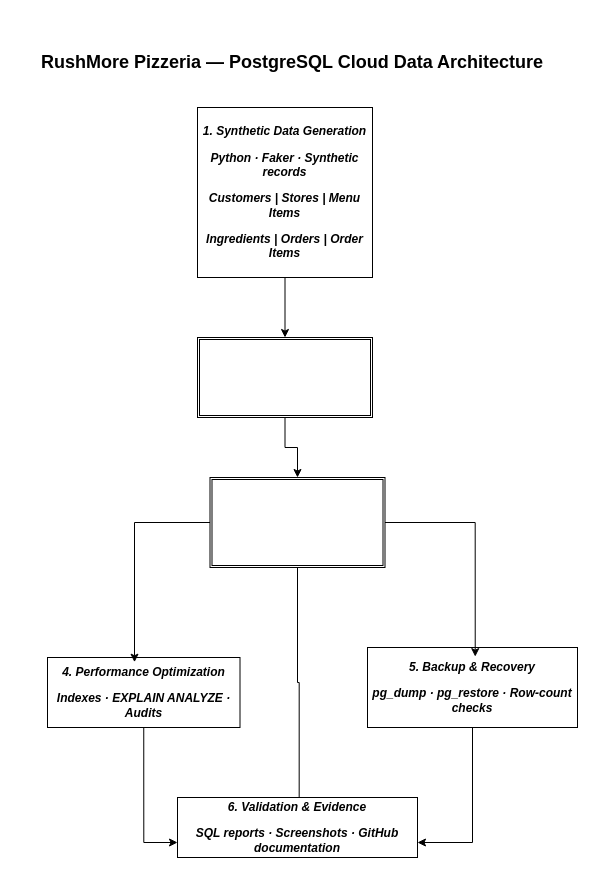
Image size: 595x884. Some labels were removed from this diagram. Here are the shapes that lost their labels. From the top down, the box of each, then its label:
(196, 336, 372, 418): 2. Data Loading Pipeline Python · PostgreSQL transactions · Validation
(209, 476, 385, 568): 3. Azure Database for PostgreSQL rushmore_db · Six relational tables
